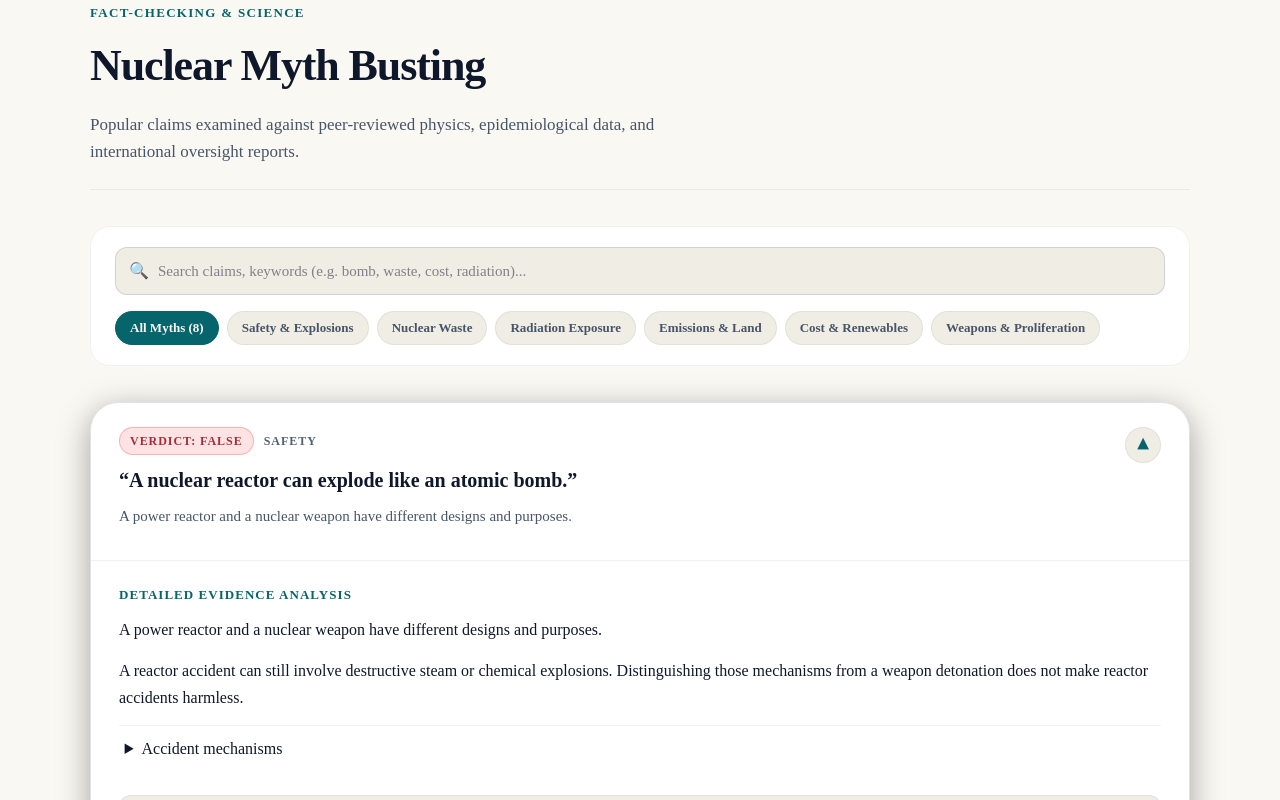
Scenario: MythViewer › toggles context while ignoring a legacy preference
Expected: the text "A reactor accident can still involve destructive" is shown, top-left (119, 662), bottom-right (1148, 706)
# Click card to collapse
Click the button that starts with "Verdict:" at [640, 477], box top-left (91, 403), bottom-right (1189, 552)
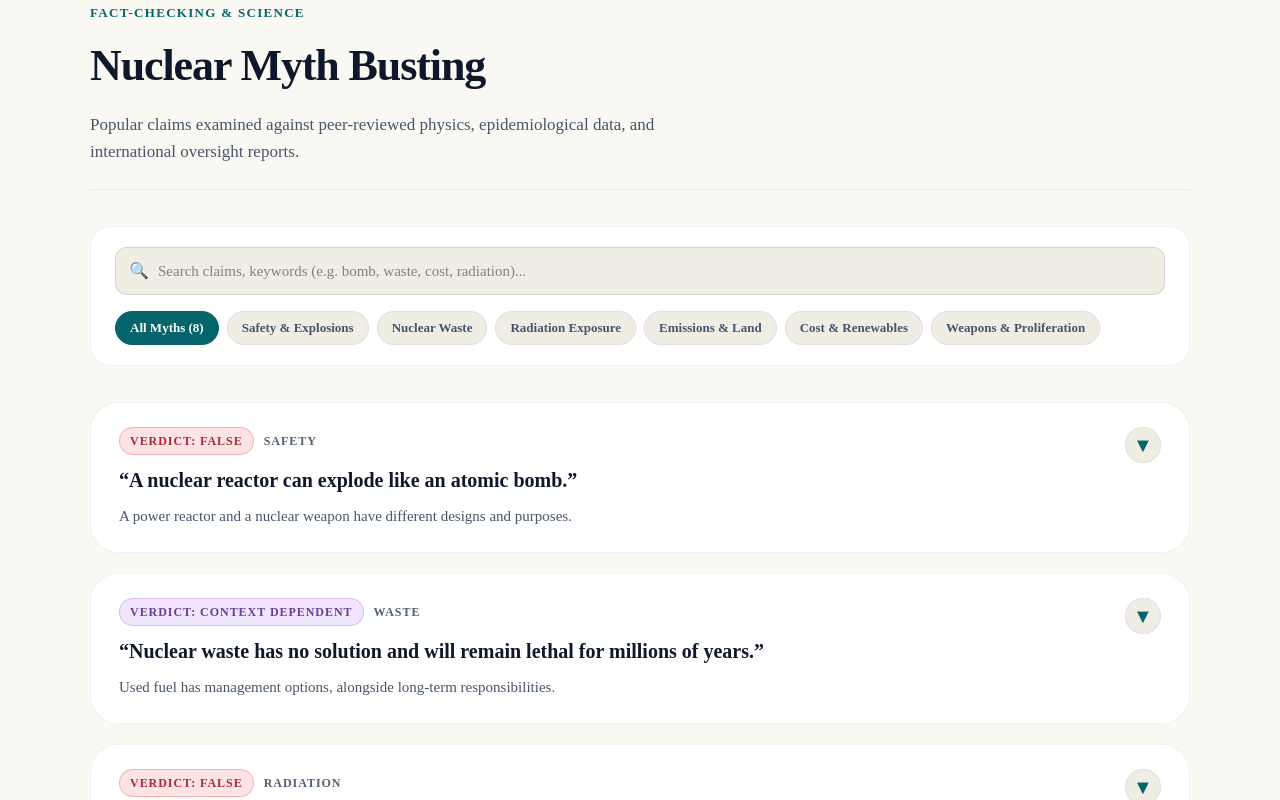
Expected: the text "A reactor accident can still involve destructive" is gone
